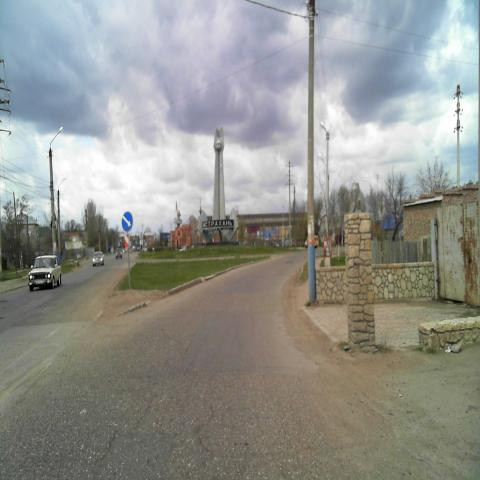4_2_1: (122, 210, 134, 233)
